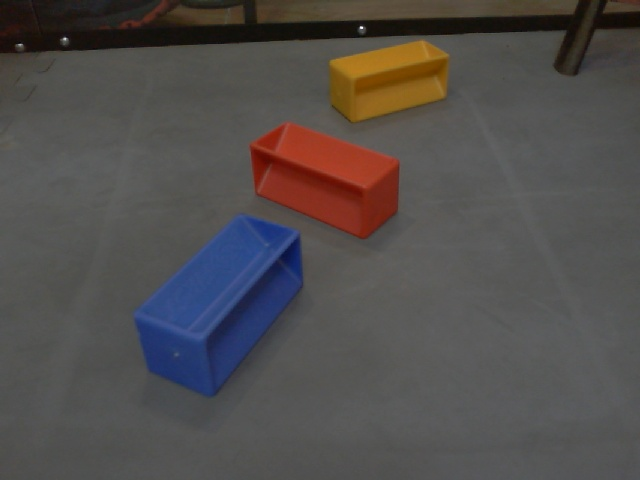BlueSample: (132, 211, 306, 397)
RedSample: (250, 120, 403, 239)
YellowSample: (325, 37, 451, 124)
